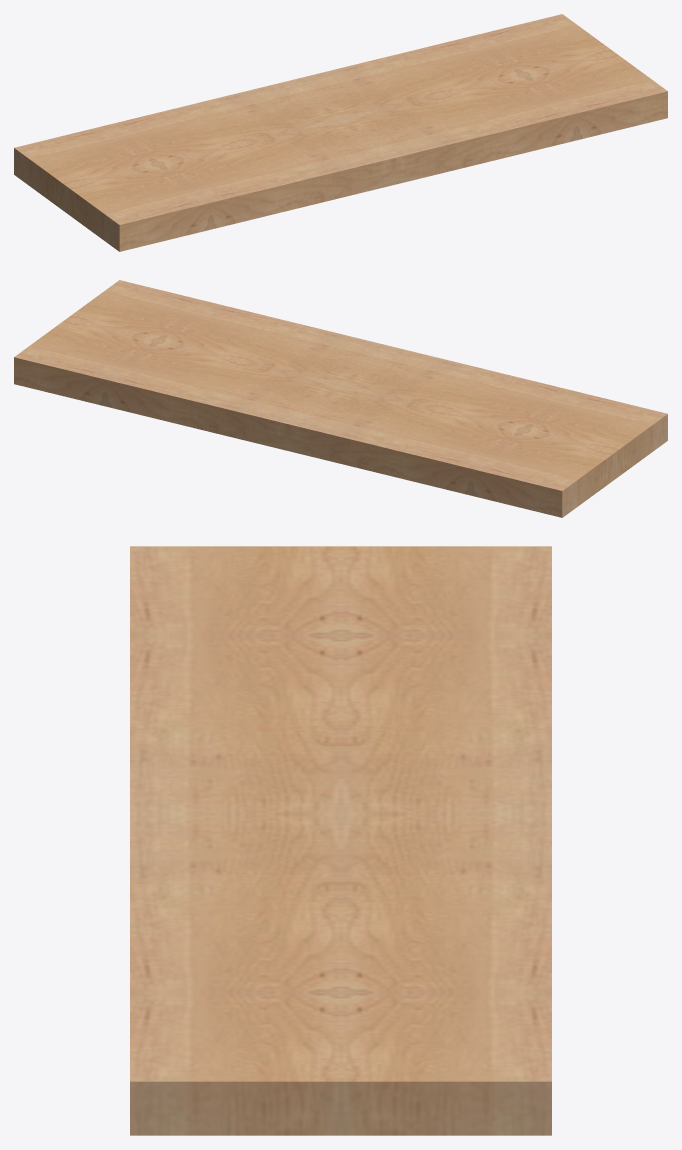
The model's file is shelf-wood-slab.glb.
3 renders of one model, top to bottom at view 1: azimuth 30°, elevation 25°; view 2: azimuth 150°, elevation 25°; view 3: azimuth 270°, elevation 25°, orthographic. The views are drawn at different scales.
Visible parts, largest first — view 1: shelf-wood-slab; view 2: shelf-wood-slab; view 3: shelf-wood-slab.
Boxes of the visible parts, x1,y1,x2,y2 form: shelf-wood-slab: (14,14,667,251); shelf-wood-slab: (14,280,667,517); shelf-wood-slab: (130,546,551,1135).
Bounding box in the file's own units: 0.9144 × 0.0429 × 0.3048.
1 material, 1 textured.
